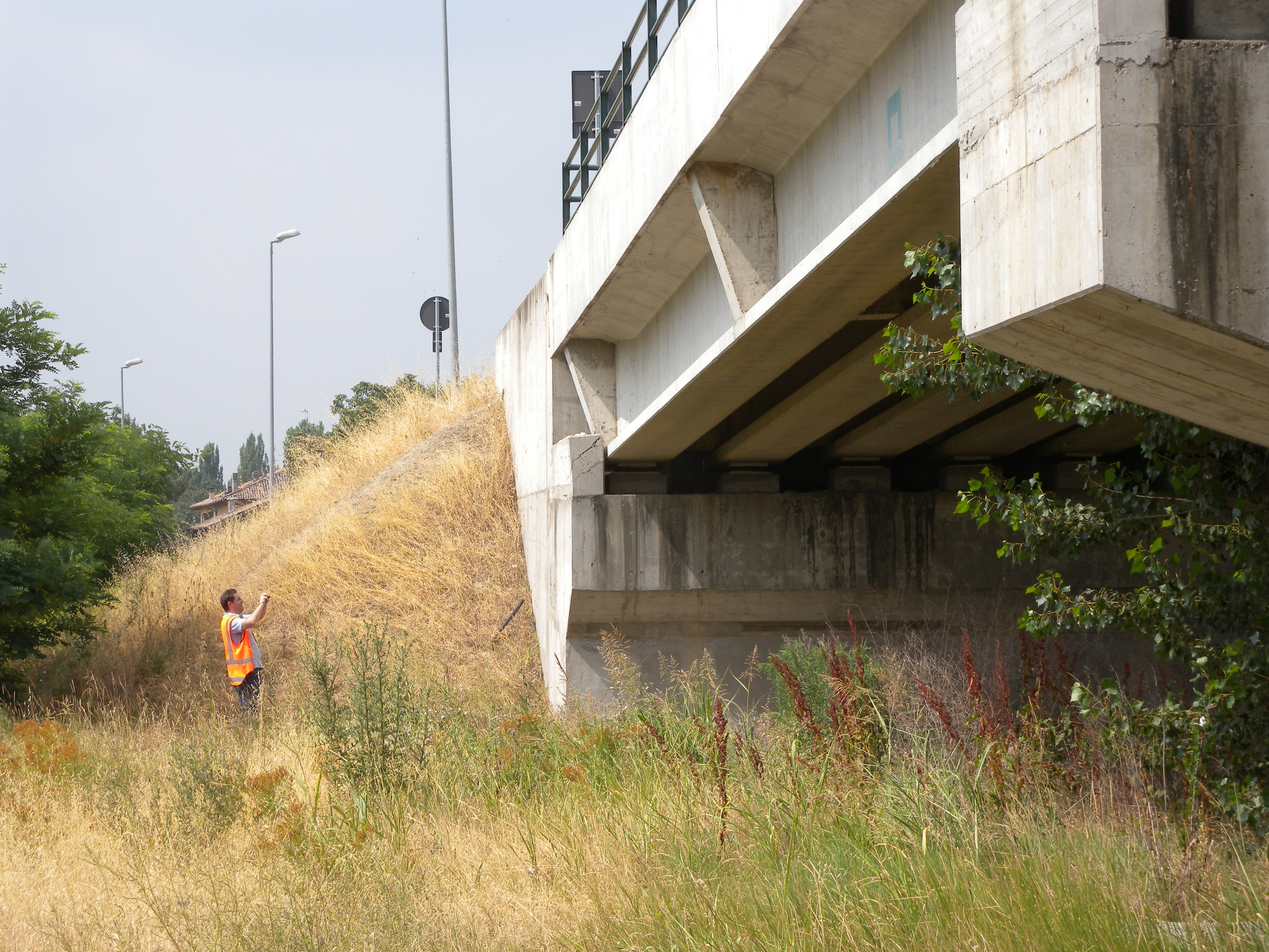Crack: (563, 435, 604, 485)
